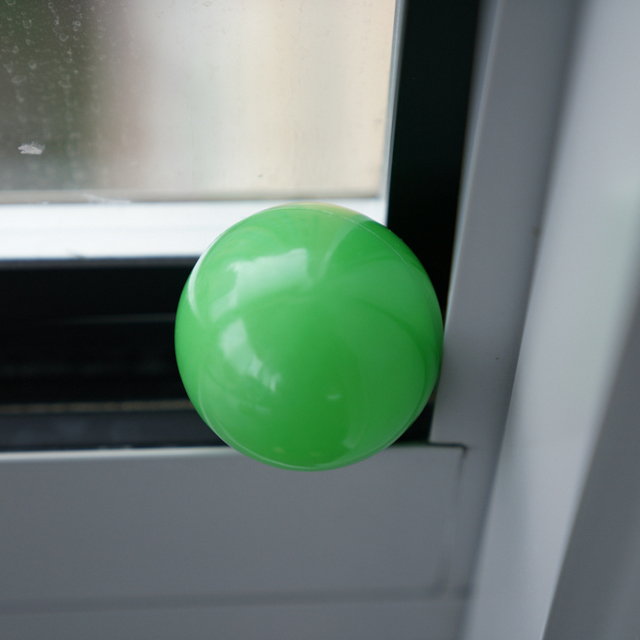Ball: (172, 203, 443, 469)
